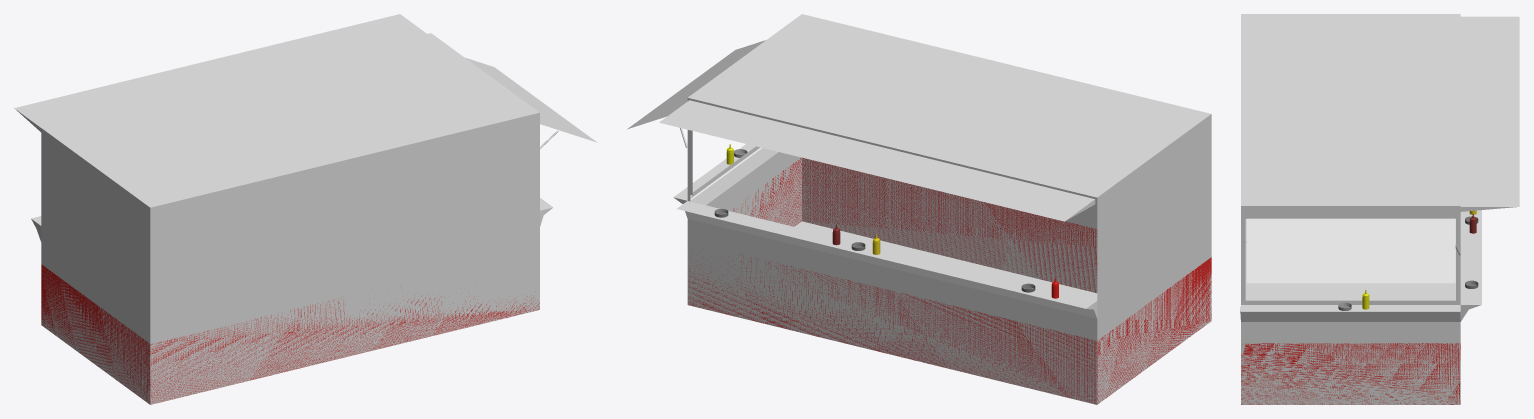
The model's file is tias.fbx.
3 views of the same model, side by side, from view 1: azimuth 30°, elevation 25°; view 2: azimuth 150°, elevation 25°; view 3: azimuth 270°, elevation 25° (orthographic). The views are drawn at different scales.
Visible parts, largest first — view 1: Cube, Cube.001; view 2: Cube, Cube.001; view 3: Cube, Cube.001.
Part boxes in pixels (x1,y1,x2,y2): Cube: (14,14,597,404); Cube.001: (41,228,539,404); Cube: (627,14,1211,404); Cube.001: (687,154,1211,404); Cube: (1240,14,1519,404); Cube.001: (1241,322,1460,404).
Bounding box in the file's own units: 7.52 × 3.14 × 3.99.
